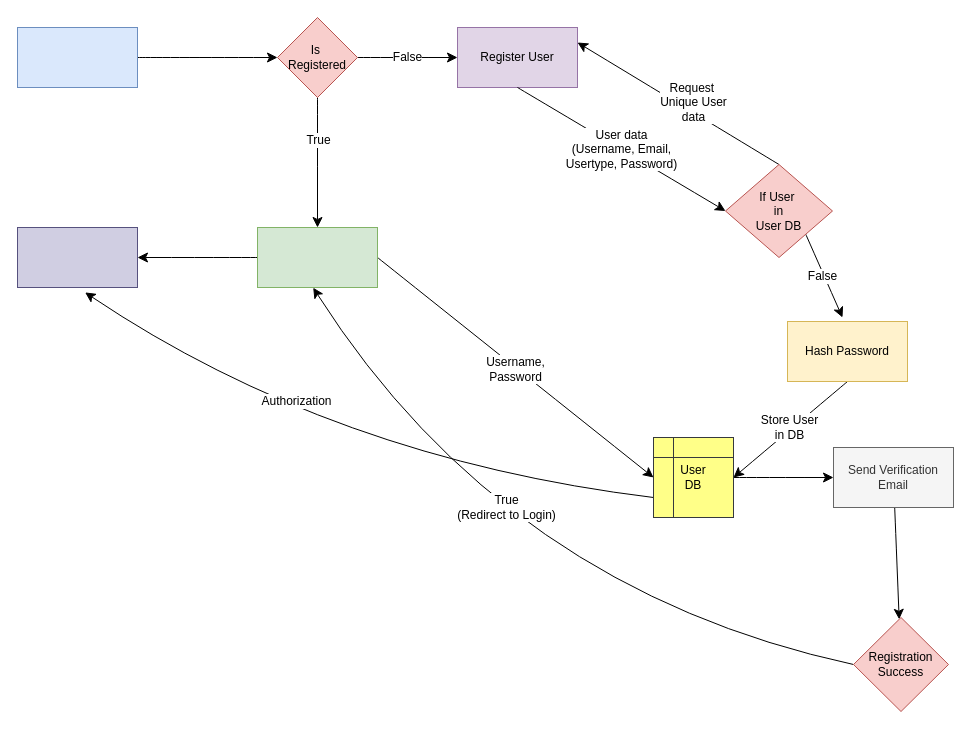
The diagram is 971 pixels wide and 729 high, and some of its shapes have lost their labels. The shapes that lost their labels are listed below. From the top down, each one's centre as x and y in pixels, then its label:
At point (77, 57): "Application".
At point (77, 257): "Access Role Based Dashboard".
At point (317, 257): "Login".
